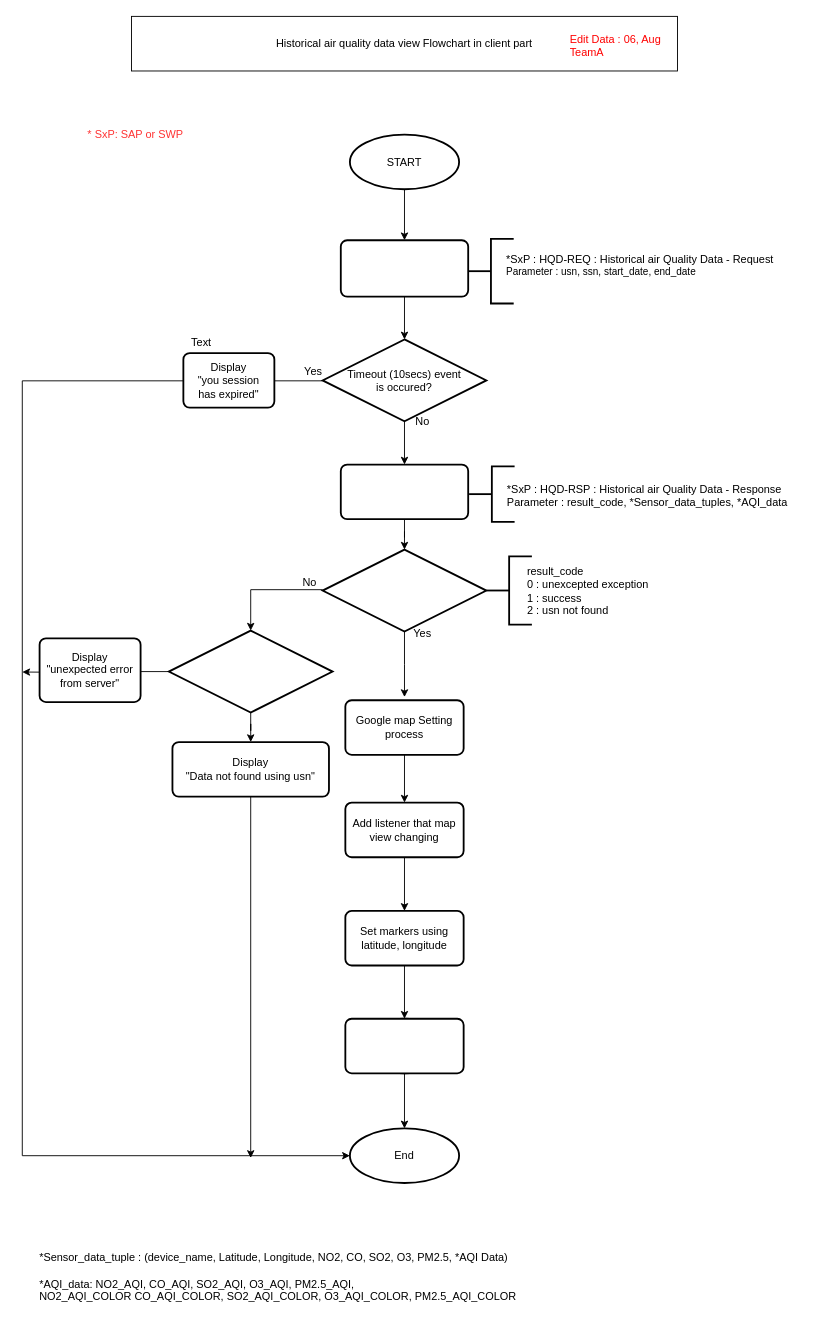
Image size: 813x1332. Some labels were removed from this diagram. The centre of each missing label's shape, as x and y in pixels:
Interver every N sec for set marker: point (404, 1045)
Receive SxP: HQD -RSP from server: point (404, 491)
result_code == 1?: point (404, 590)
result_code == 2?: point (250, 671)
Send *SxP: HQD-REQ to server: point (404, 268)
